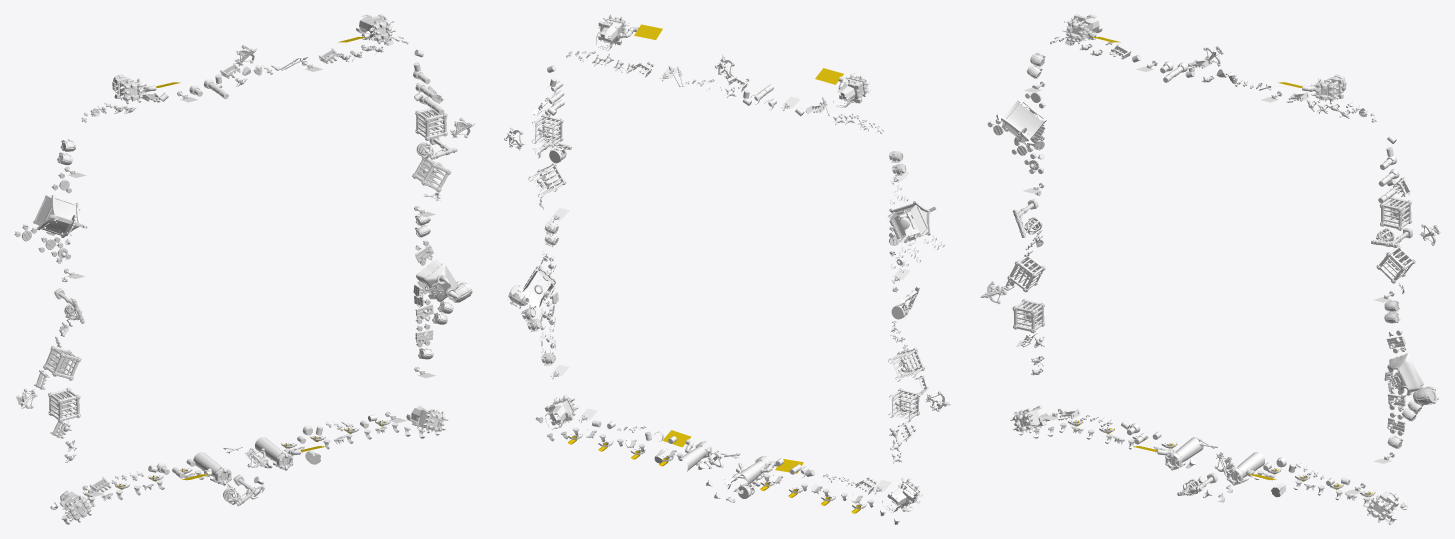
File: bgr_mad_evil_manor_showdown_geo.glb
3 renders of one model, left to right at view 1: azimuth 30°, elevation 25°; view 2: azimuth 150°, elevation 25°; view 3: azimuth 330°, elevation 25°, orthographic. The views are drawn at different scales.
Visible parts, largest first — view 1: Cube.174, Cube.173, Cube.175, Cylinder.203, Cube.189, Cube.190, Cube.188, Cube.191; view 2: Cube.173, Cube.174, Cube.175, Cylinder.203, Cube.190, Cube.189, Cube.188, Cube.191, plane_flame.010; view 3: Cube.173, Cube.174, Cylinder.203, Cube.175, Cube.189, Cube.190, Cube.188, Cube.191, Cube.177.
Boxes of the visible parts, <box> form: Cube.174: <box>59,405,448,522</box>; Cube.173: <box>112,14,395,104</box>; Cube.175: <box>33,194,87,237</box>; Cylinder.203: <box>193,437,293,485</box>; Cube.189: <box>48,387,80,422</box>; Cube.190: <box>415,108,447,140</box>; Cube.188: <box>43,346,81,380</box>; Cube.191: <box>412,156,451,192</box>; Cube.173: <box>596,14,871,107</box>; Cube.174: <box>544,394,922,512</box>; Cube.175: <box>887,201,936,243</box>; Cylinder.203: <box>678,440,771,485</box>; Cube.190: <box>532,114,563,148</box>; Cube.189: <box>888,388,920,422</box>; Cube.188: <box>888,347,925,381</box>; Cube.191: <box>528,162,566,198</box>; plane_flame.010: <box>634,24,843,84</box>; Cube.173: <box>1062,14,1346,103</box>; Cube.174: <box>1010,405,1398,522</box>; Cylinder.203: <box>1165,437,1264,485</box>; Cube.175: <box>996,100,1046,148</box>; Cube.189: <box>1012,298,1045,333</box>; Cube.190: <box>1379,196,1412,230</box>; Cube.188: <box>1007,253,1045,292</box>; Cube.191: <box>1376,244,1415,283</box>; Cube.177: <box>1387,358,1420,394</box>.
Size of the model in its own units: 78.96 by 76.38 by 9.98.
